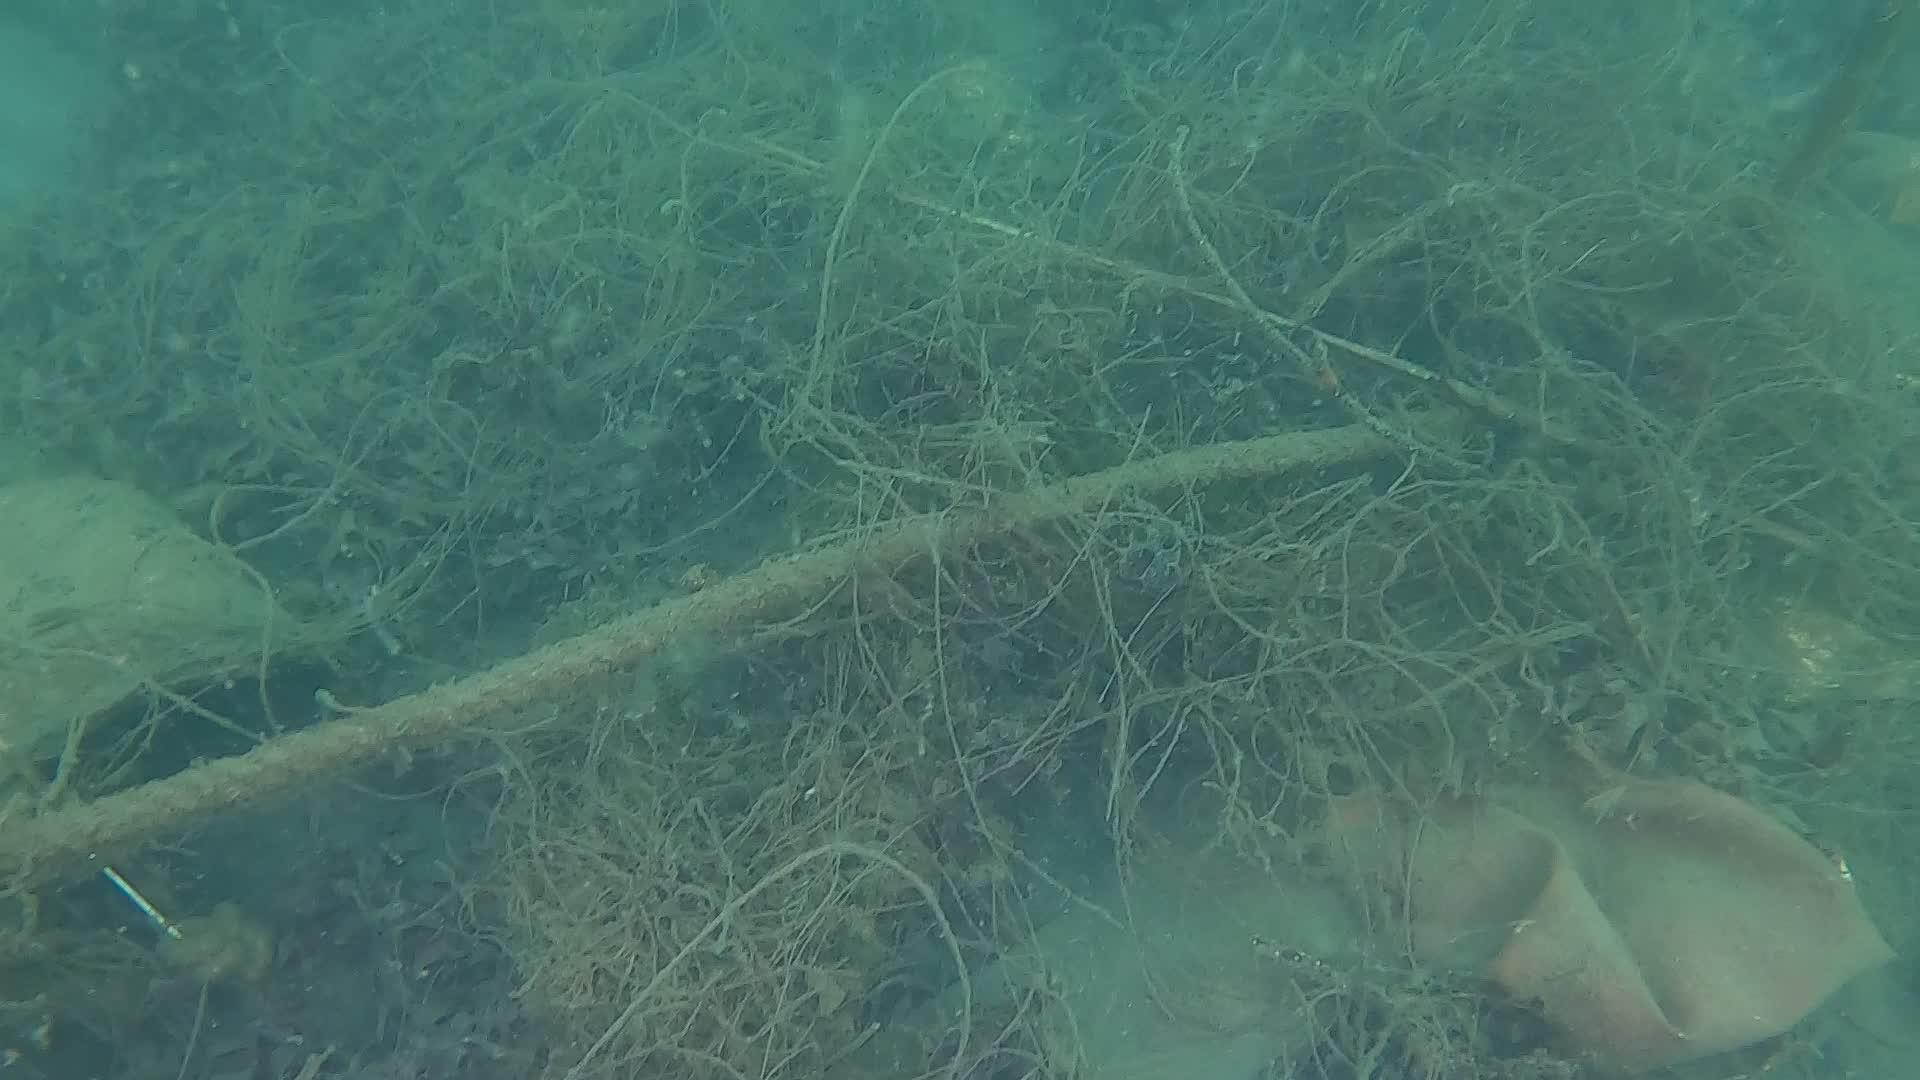rope: (0, 419, 1400, 873)
